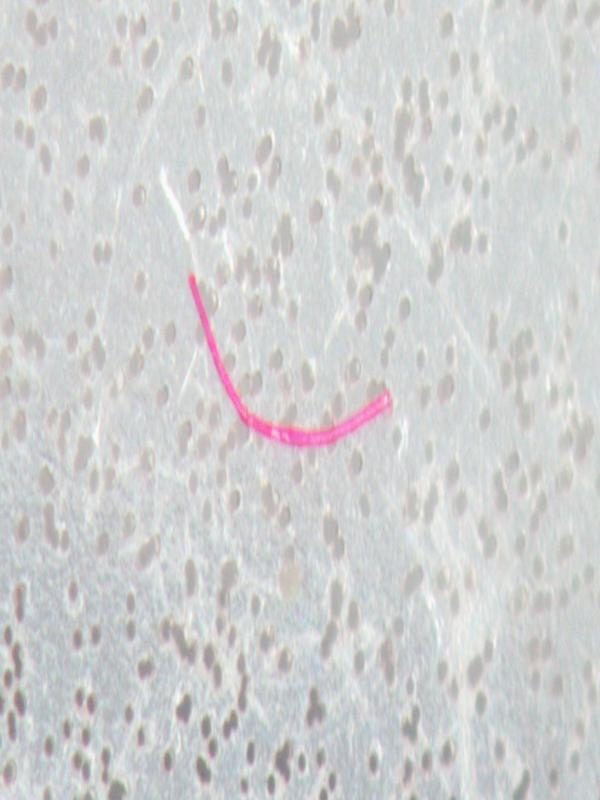microplastic: (2, 1, 599, 796), (159, 163, 394, 451)
